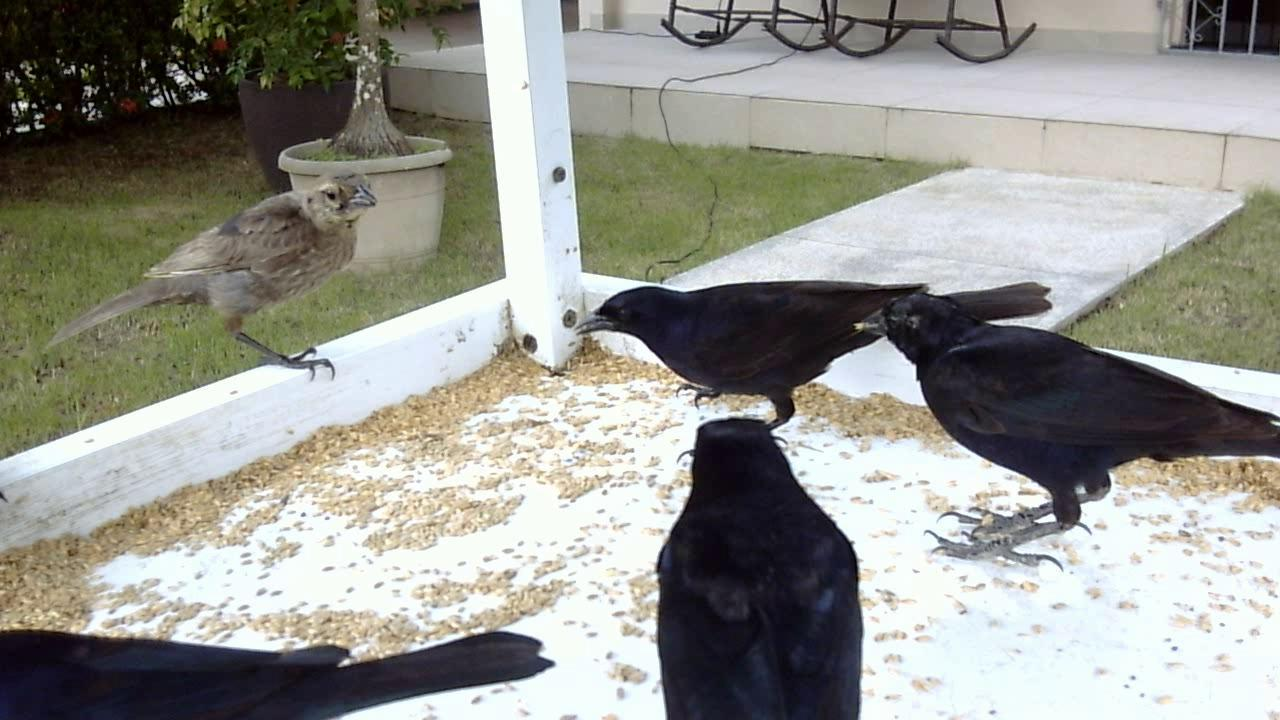chupim: (870, 264, 1278, 582), (638, 390, 876, 720), (45, 171, 378, 404), (572, 261, 966, 441), (1, 612, 568, 720)
